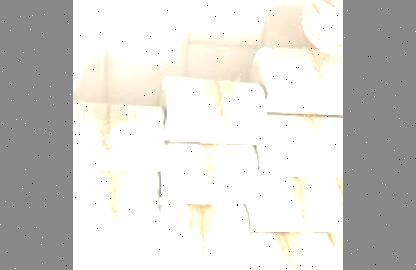Can: (158, 78, 264, 142), (250, 48, 342, 116), (150, 202, 248, 264), (74, 104, 162, 170), (157, 146, 257, 204), (240, 177, 341, 233), (252, 117, 342, 176), (73, 171, 155, 233), (233, 232, 336, 270)
